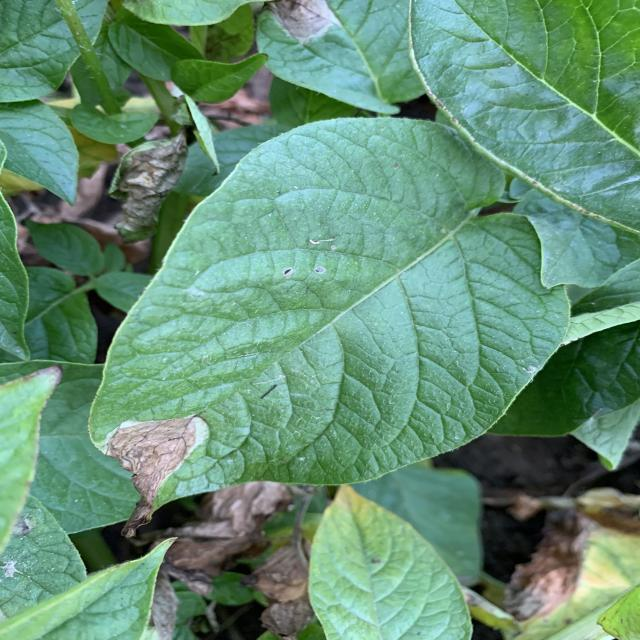lateblight: (105, 415, 208, 538), (503, 510, 595, 621), (268, 0, 342, 45)
